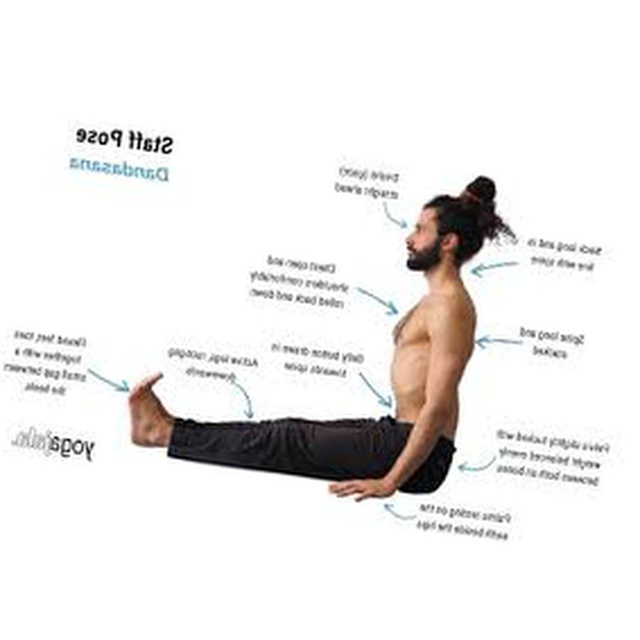Staff_Pose: (127, 175, 519, 504)
